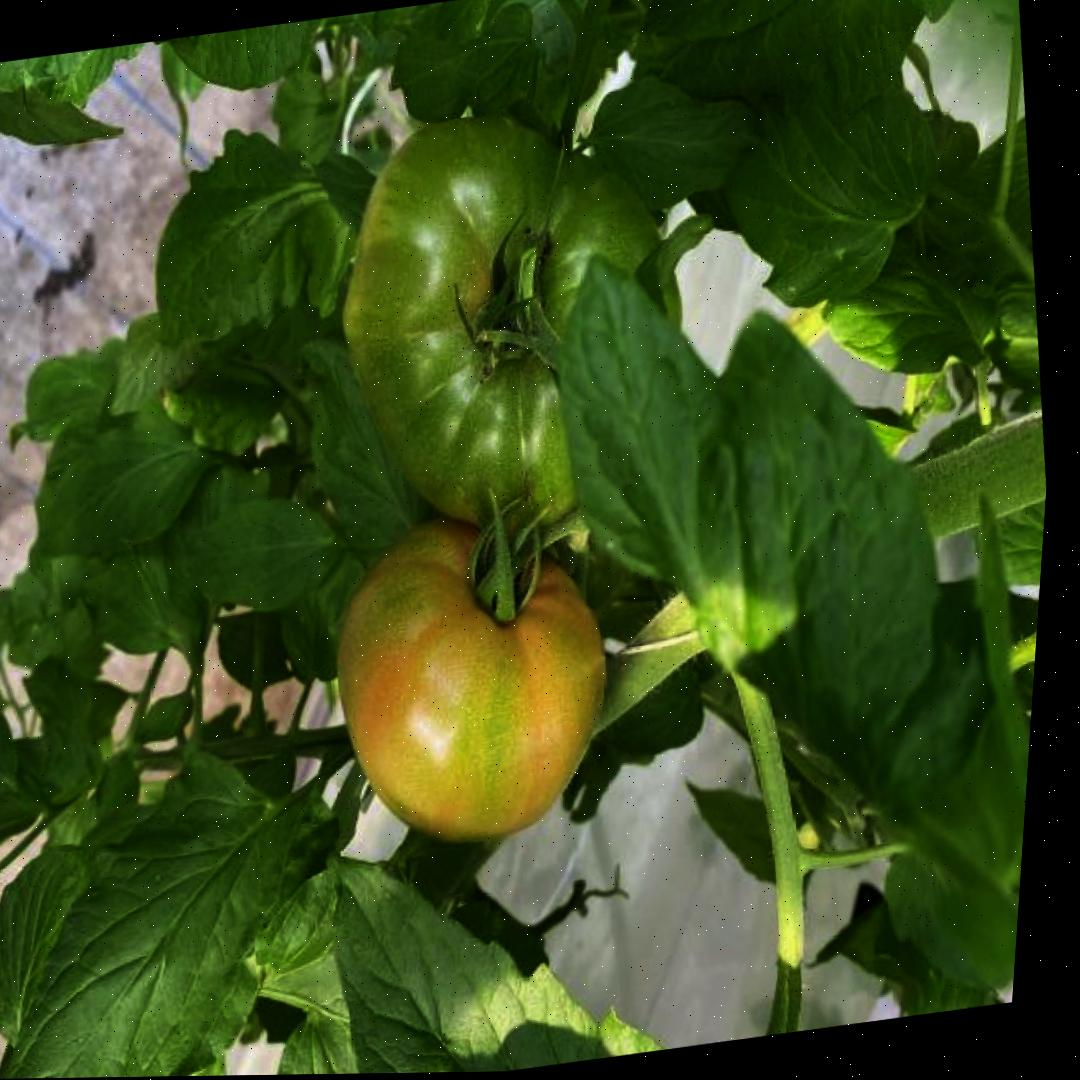mentah: (300, 80, 728, 559)
setengah_matang: (305, 495, 639, 863)
